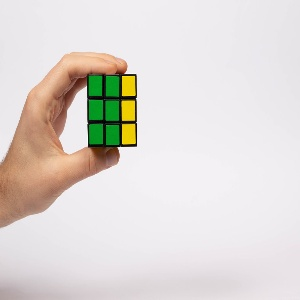cube: (87, 73, 137, 148)
